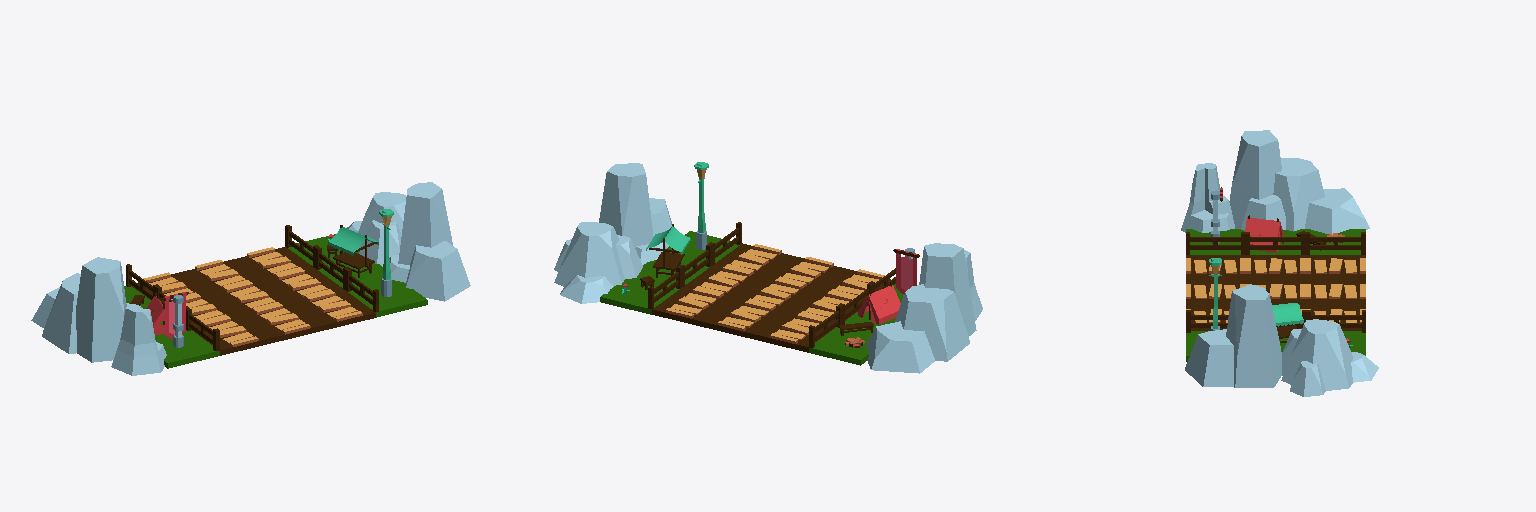
Rendered from NaturesGuardian-2.obj.
The picture shows the model from 3 angles: view 1: azimuth 30°, elevation 25°; view 2: azimuth 150°, elevation 25°; view 3: azimuth 270°, elevation 25°; orthographic projection.
Visible parts, largest first — view 1: mergedBlocks; view 2: mergedBlocks; view 3: mergedBlocks.
Boxes of the visible parts, x1=… form: mergedBlocks: x1=31, y1=182, x2=470, y2=375; mergedBlocks: x1=554, y1=162, x2=982, y2=373; mergedBlocks: x1=1181, y1=130, x2=1378, y2=396.
Size of the model in its own units: 7.57 by 1.66 by 3.31.